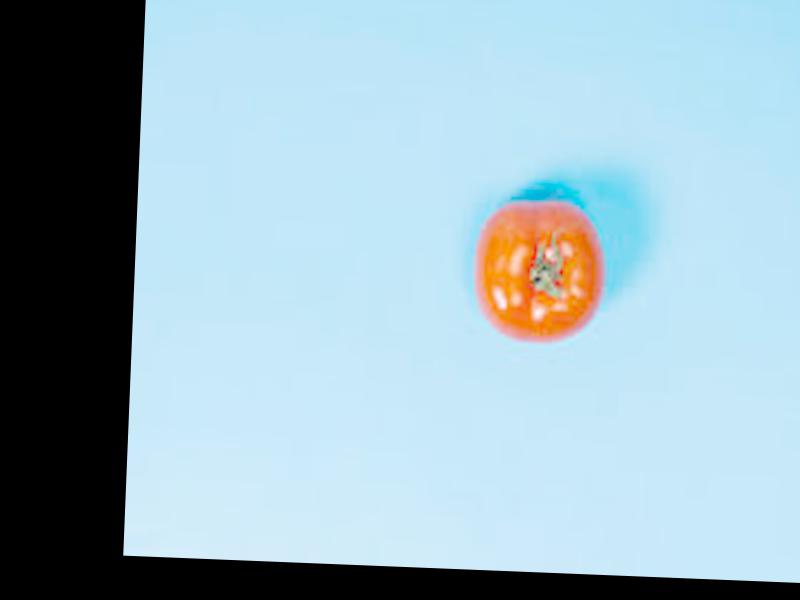Tomato: (472, 198, 612, 348)
